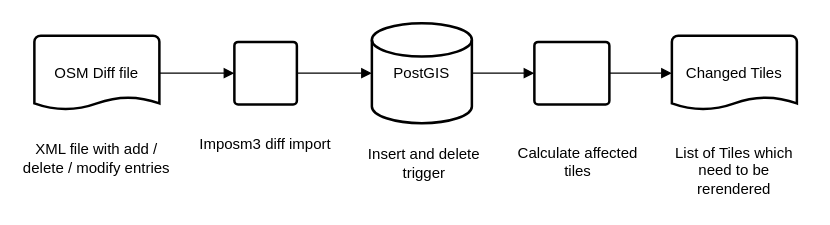
Image size: 830x225. Some labels were removed from this diagram. Each missing label, with the box of its shape:
Calculate: (532, 40, 610, 105)
Import: (232, 40, 298, 105)
